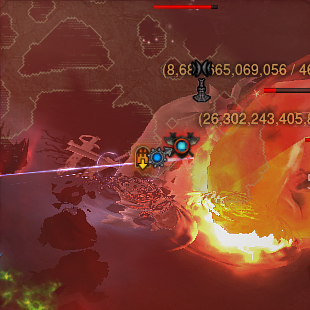Exit: (133, 145, 151, 170)
